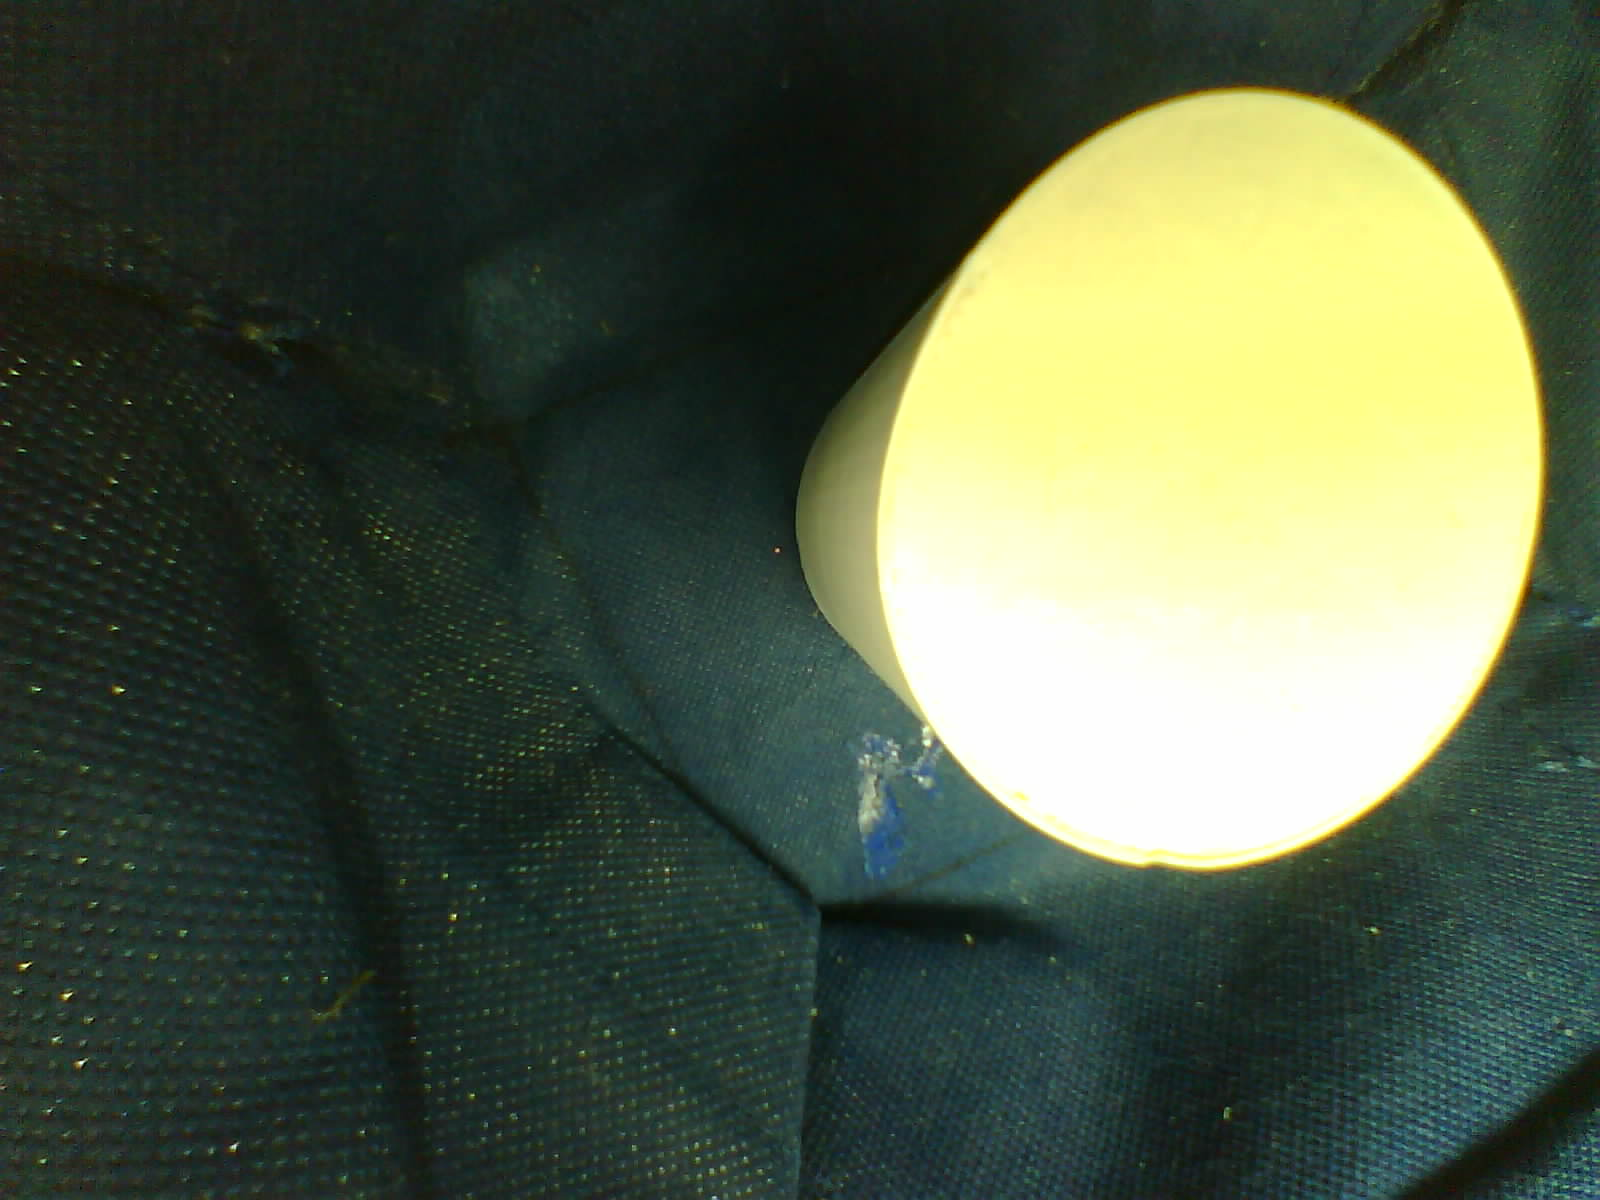cylinder-hard: (766, 77, 1553, 904)
